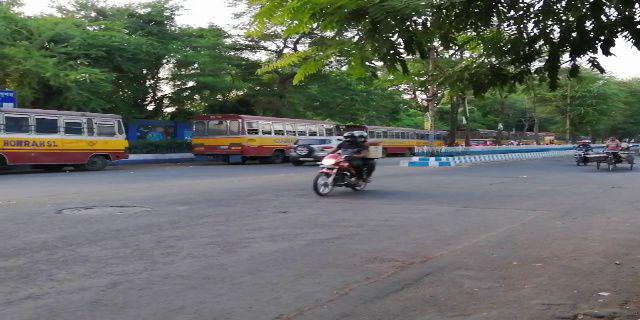Bus: (1, 104, 133, 174), (187, 110, 319, 163), (367, 125, 414, 160)
Car: (280, 133, 337, 165)
Motorbike: (309, 127, 378, 201), (571, 136, 592, 173)
Van: (595, 130, 636, 178)
